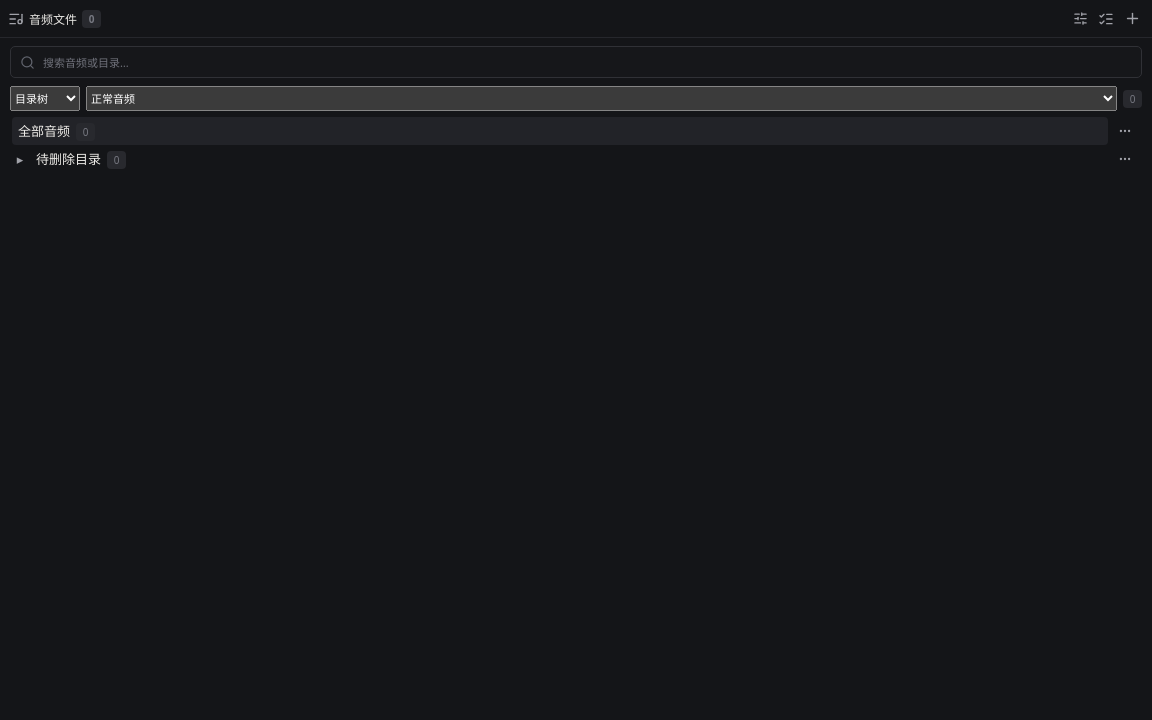
Scenario: retains the removal dialog and draft after a restored-member rejection
The image size is (1152, 720).
What coordinates should you click on to do the following:
click the button named "文件夹操作 · 待删除目录"
I would click on:
 (1125, 159)
Its box is [1110,145,1140,173].
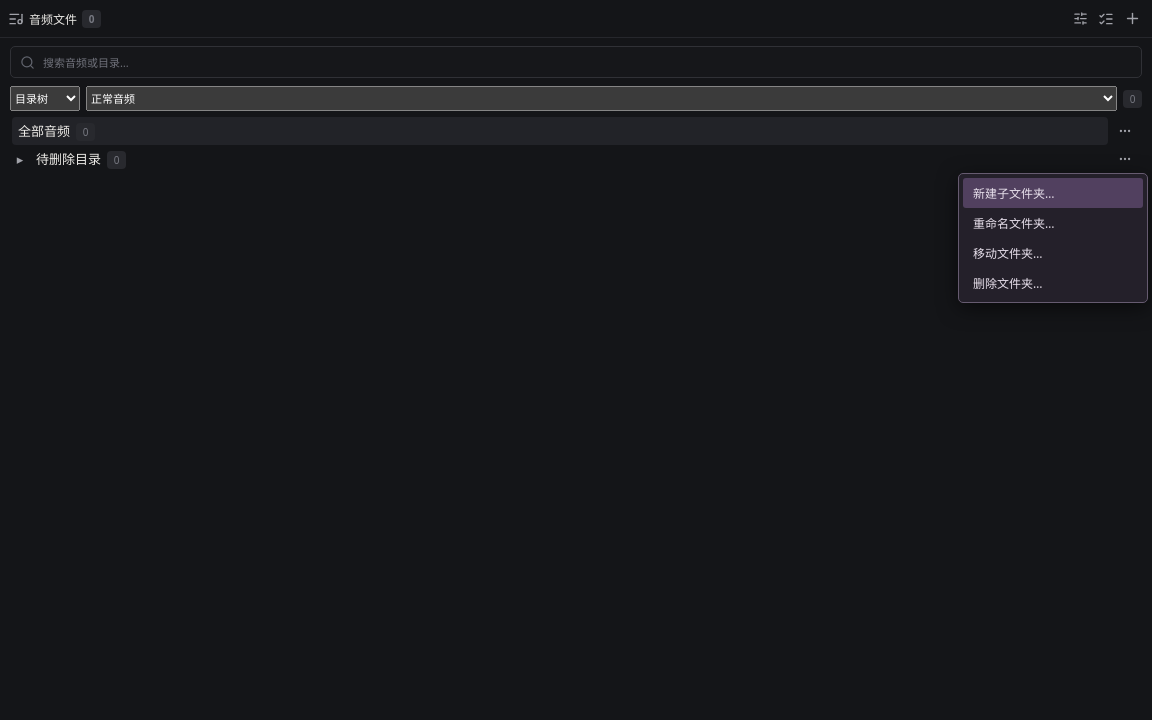
What coordinates should you click on to do the following:
click the menu item "删除文件夹…"
I would click on:
 (1053, 283)
Its box is [963,268,1143,298].
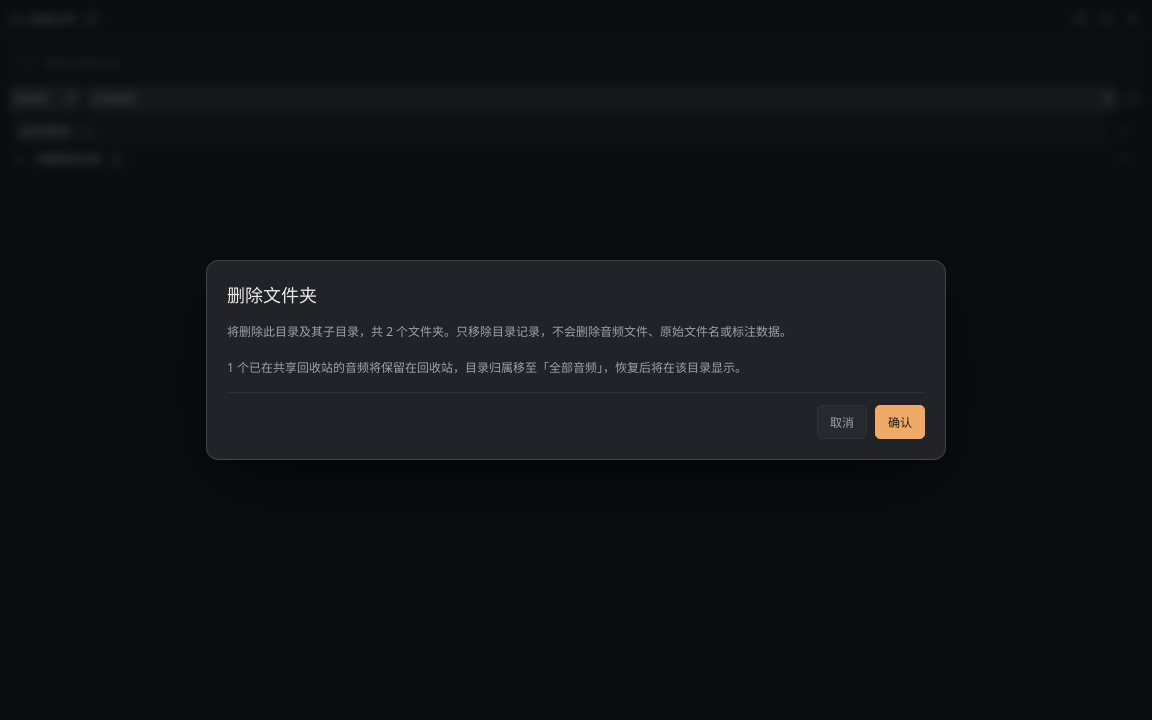
What coordinates should you click on to do the following:
click the button "确认"
I would click on:
 (900, 422)
Its box is [875,405,925,439].
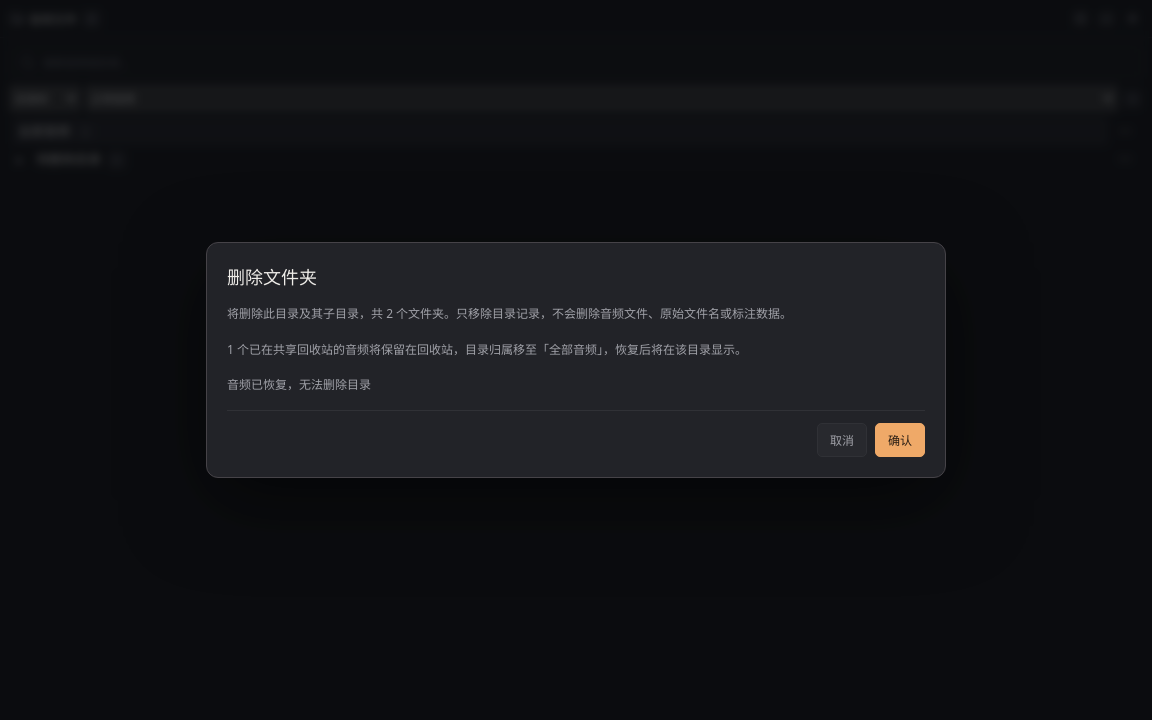
expect the button "确认" is enabled: met, box [875,423,925,457]
expect the dialog shows "音频已恢复": met, box [227,376,371,393]
